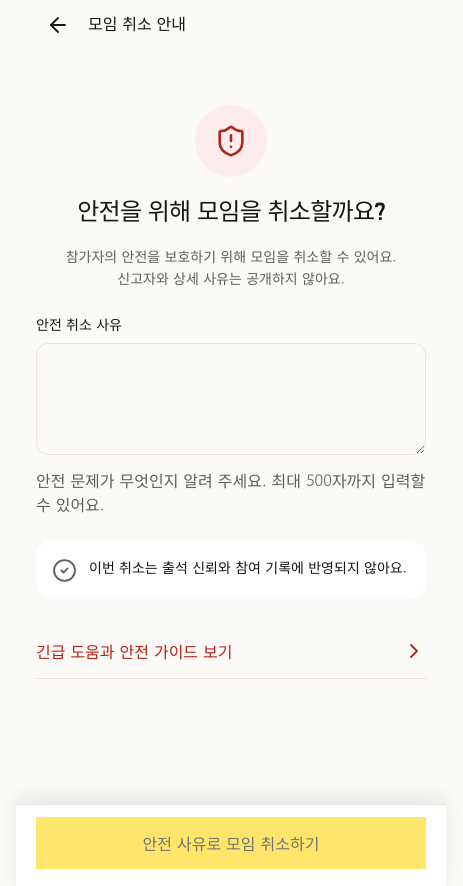
Test: SafetyCancelPage API behavior › surfaces generic and API failures and reuses the same key for an unchanged reason
Type "안전 우려" into the text box labelled "안전 취소 사유". click: (231, 399)
box: [36,343,426,455]
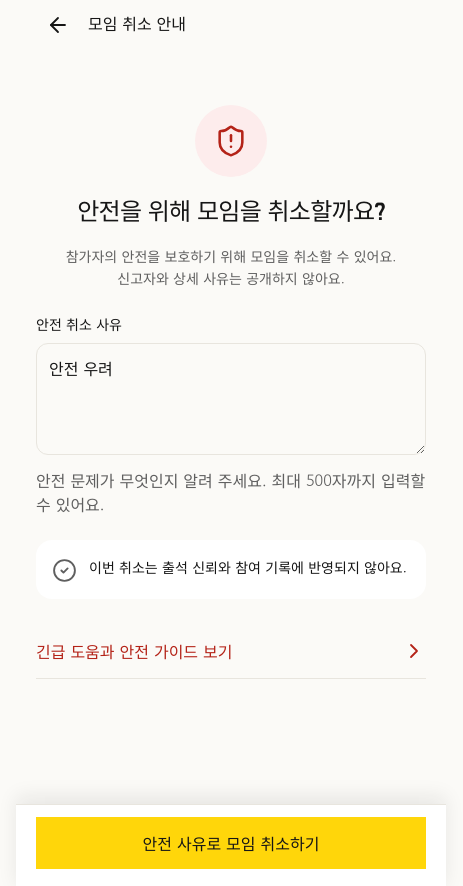
Now the button "안전 사유로 모임 취소하기" is enabled
Click the button "안전 사유로 모임 취소하기". click: (231, 843)
box: [36,817,426,869]
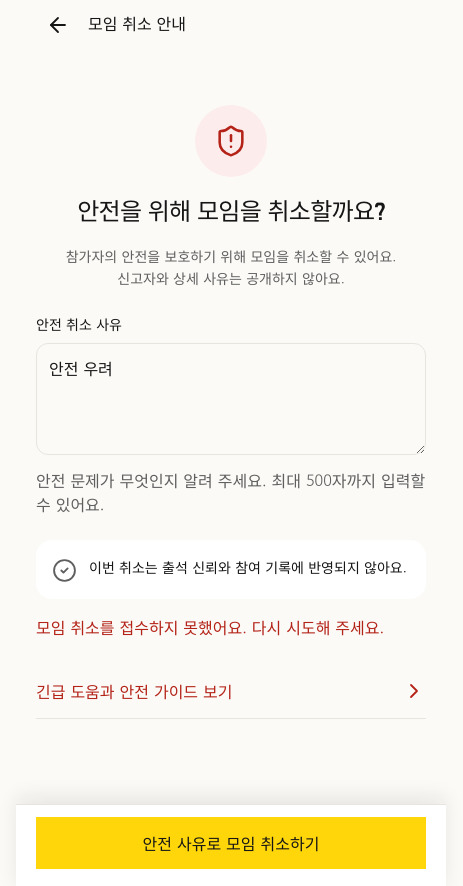
Now the button "안전 사유로 모임 취소하기" is enabled
Now the text "모임 취소를 접수하지 못했어요. 다시 시도해 주세요." is shown, box [36,615,426,639]
Click the button "안전 사유로 모임 취소하기". click: (231, 843)
box: [36,817,426,869]
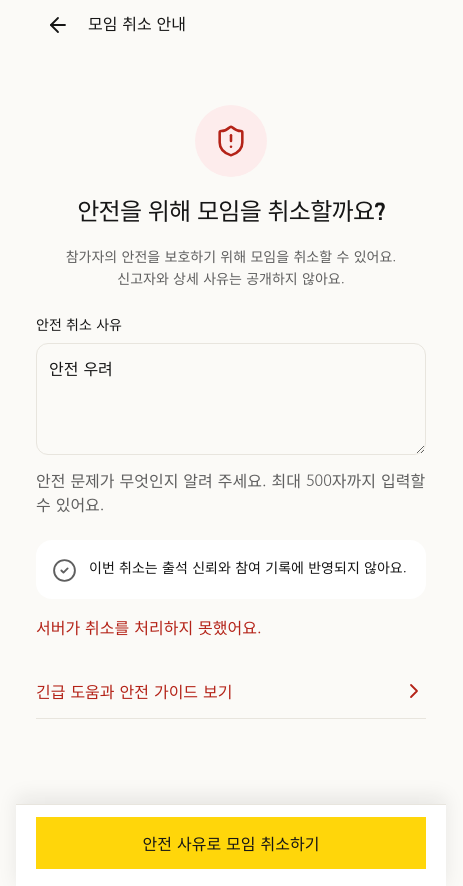
Now the text "서버가 취소를 처리하지 못했어요." is shown, box [36,615,262,639]
